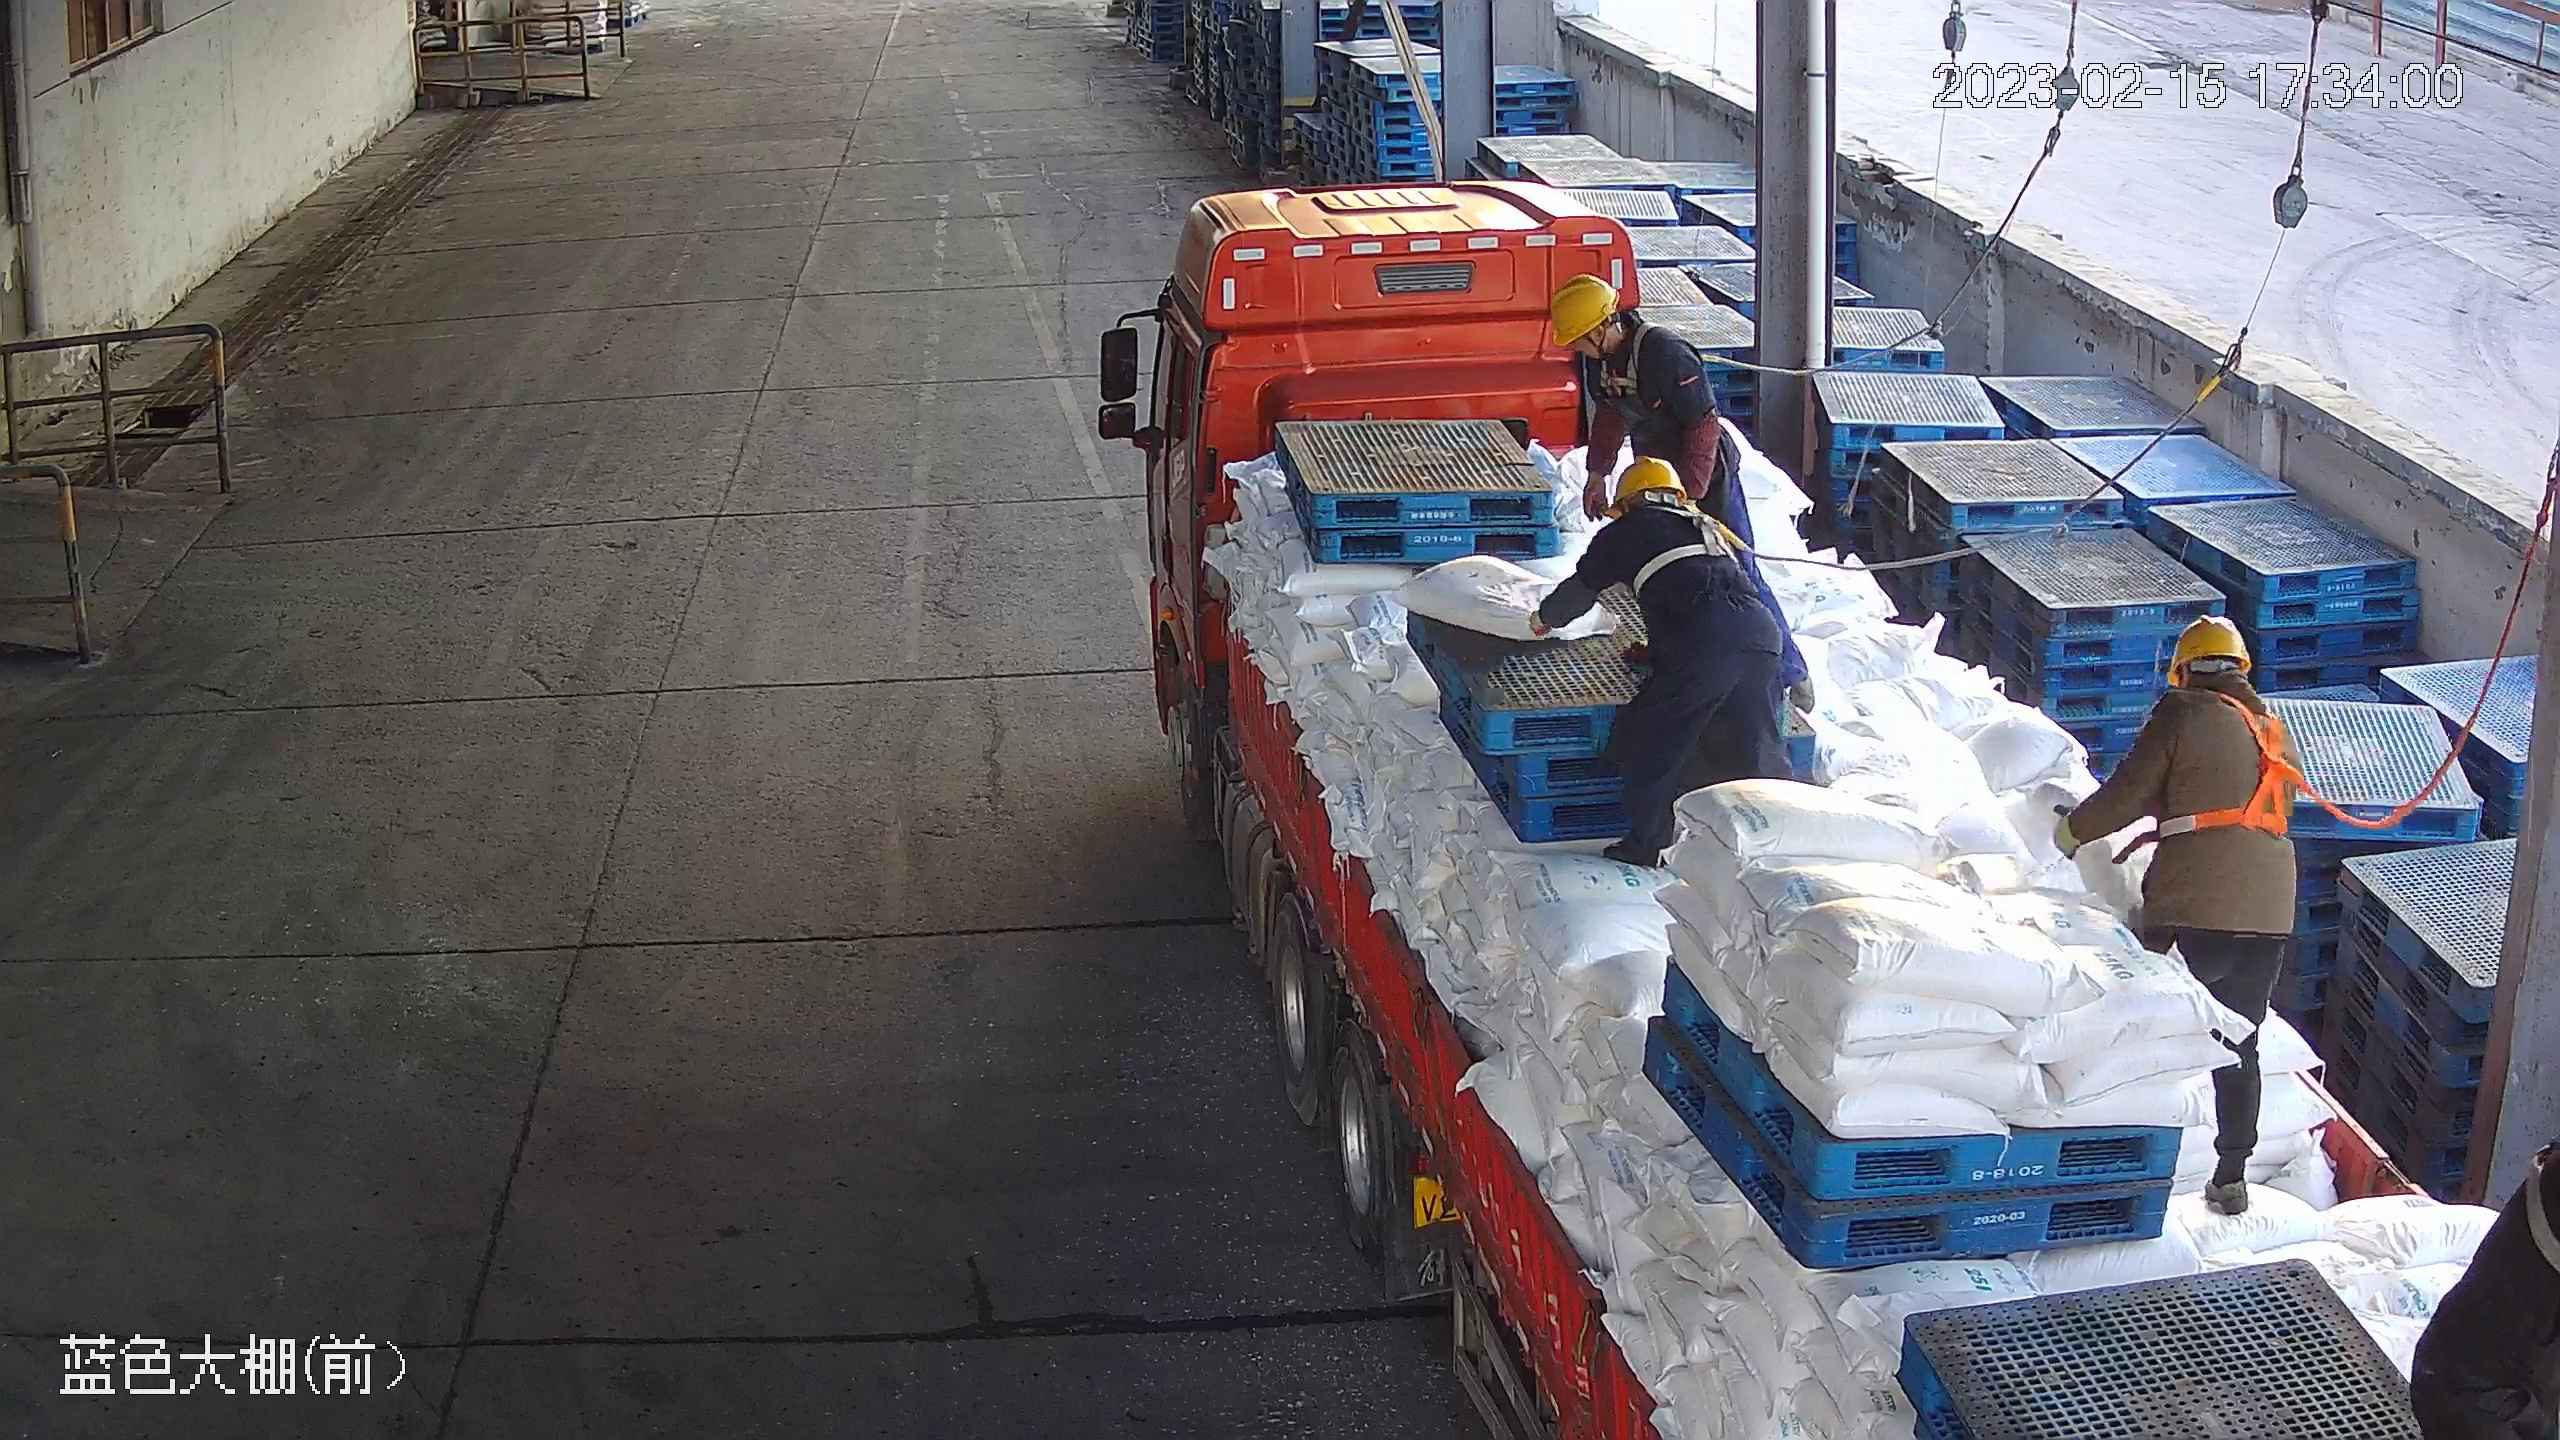belt: (2149, 685, 2340, 841), (1627, 504, 1775, 596), (1600, 321, 1720, 399)
head: (2147, 614, 2299, 747), (1551, 272, 1709, 389), (1581, 457, 1732, 557)
helmet: (2165, 613, 2252, 686), (1551, 273, 1622, 349), (1604, 455, 1687, 520)
people: (2052, 615, 2306, 1218), (1530, 458, 1817, 868), (1549, 272, 1757, 576)
truck: (1144, 175, 2560, 1440)
